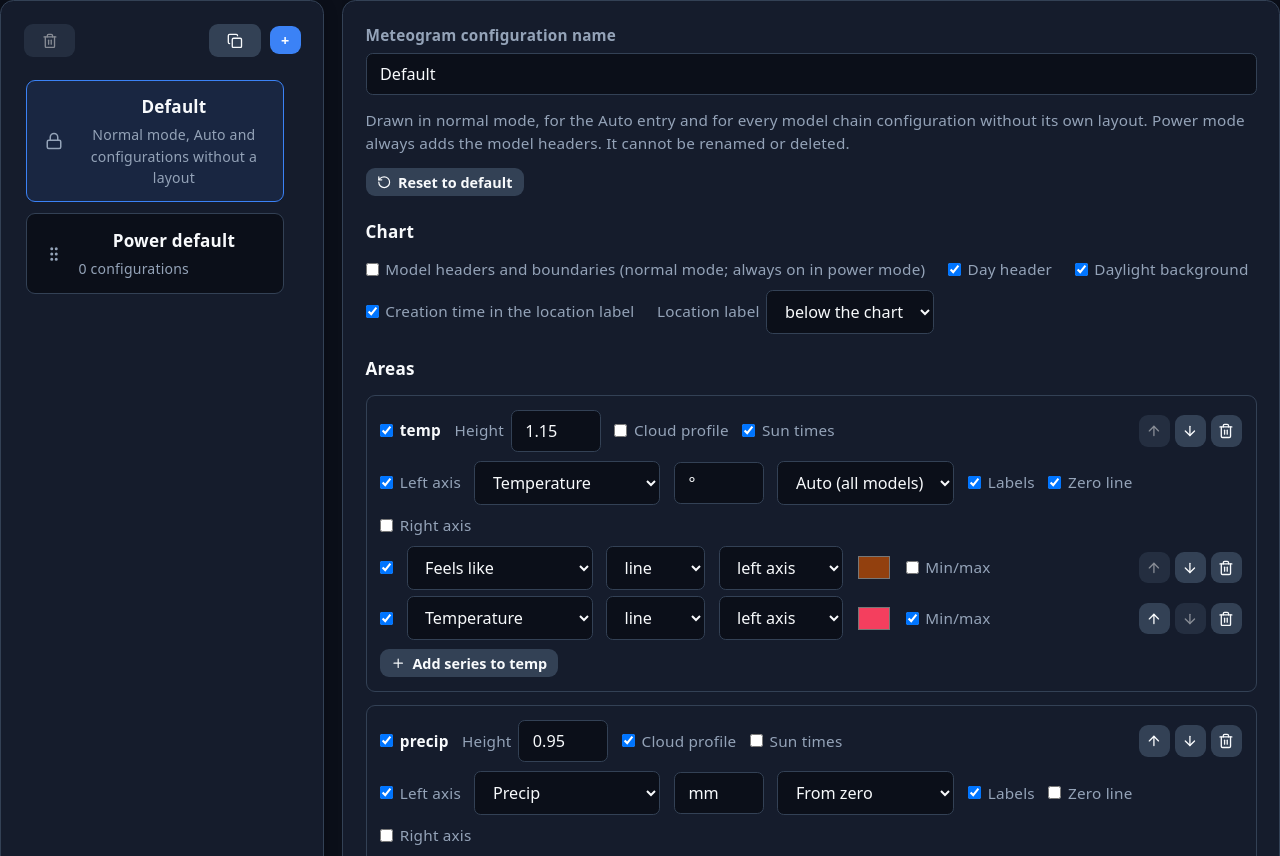
it: MeteogramLayoutsPanel (spec §4.3) › layout editor (#142) › shows a backend rejection
Expected: the element with test id "layout-list" is shown, [26,80,284,294]
What coordinates should you click on to do the following:
click the checkbox labelled "Day header"
I would click on:
 (954, 269)
Its box is [948,263,961,276].
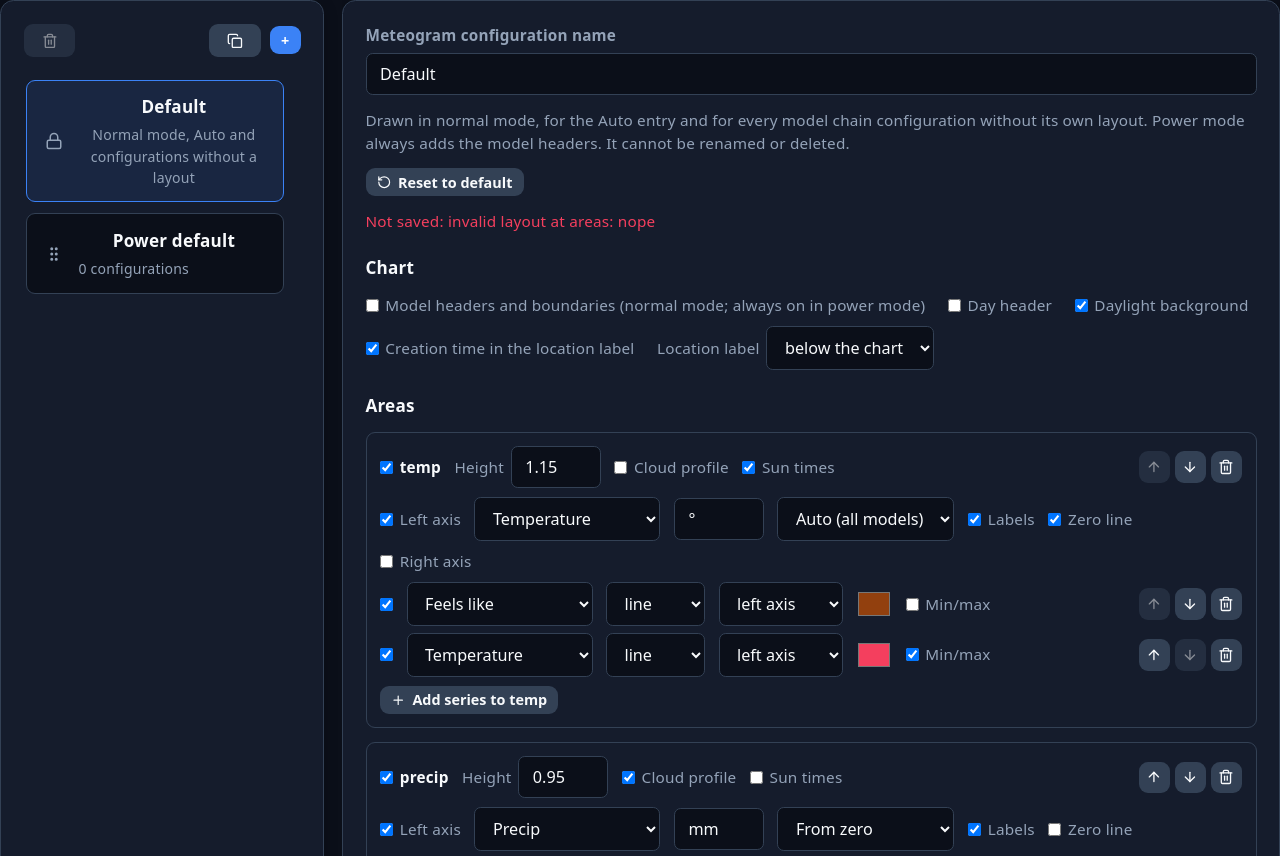
Now the message with test id "layout-edit-error" shows "nope", box [448,211,655,231]
